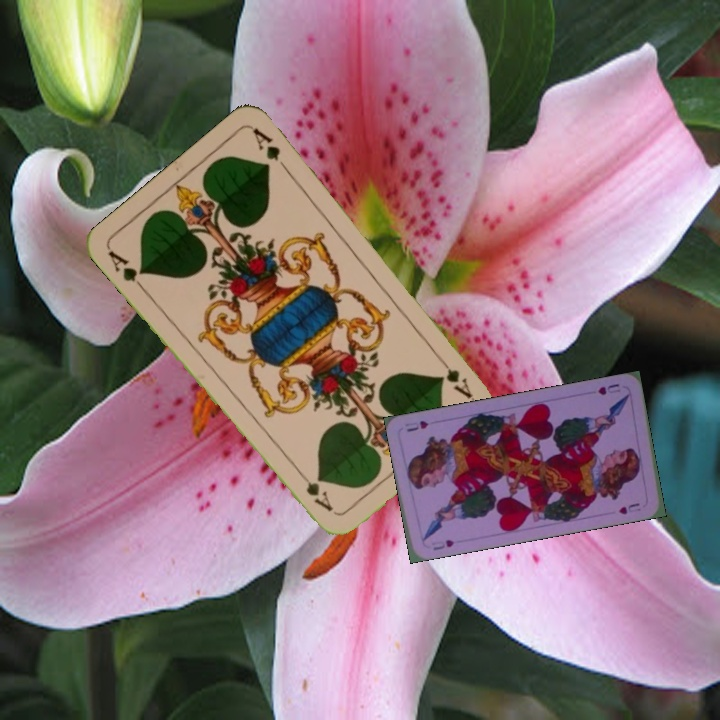GA: (431, 350, 475, 401), (103, 246, 149, 294)
HU: (426, 535, 457, 553), (594, 379, 623, 398)
